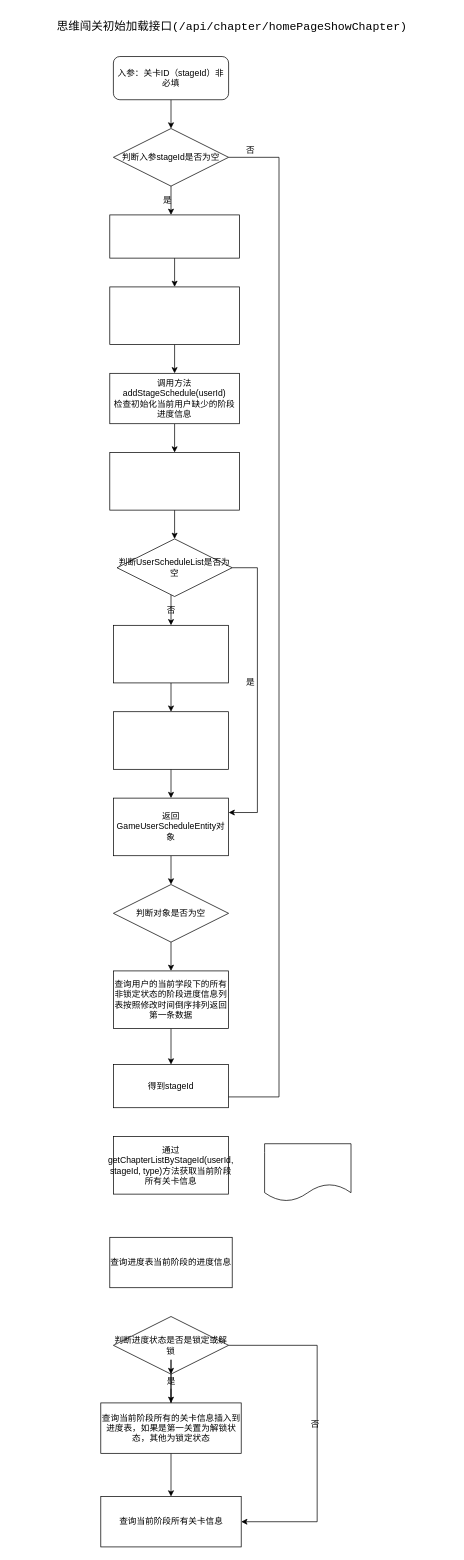
Image size: 464x1560. Some labels were removed from this diagram. The shapes that lost their labels are listed below. From the top down, each one's centre as x and y in pixels, then its label:
At [174,236]: "查询用户当前进度的关卡ID".
At [174,315]: "调用方法 getUserCurrentSubject(userId, subjectId, subjectType)".
At [174,481]: "查询用户的当前学段下的所有非锁定状态的阶段进度信息列表 按照修改时间倒序排列UserScheduleList".
At [171,654]: "循环list取出开放状态的进度信息和解锁状态的进度信息".
At [171,740]: "如果存在开放状态的进度优先返回，否则返回解锁状态的进度".
At [307,1172]: "type=1时先从缓存中拿数据".
